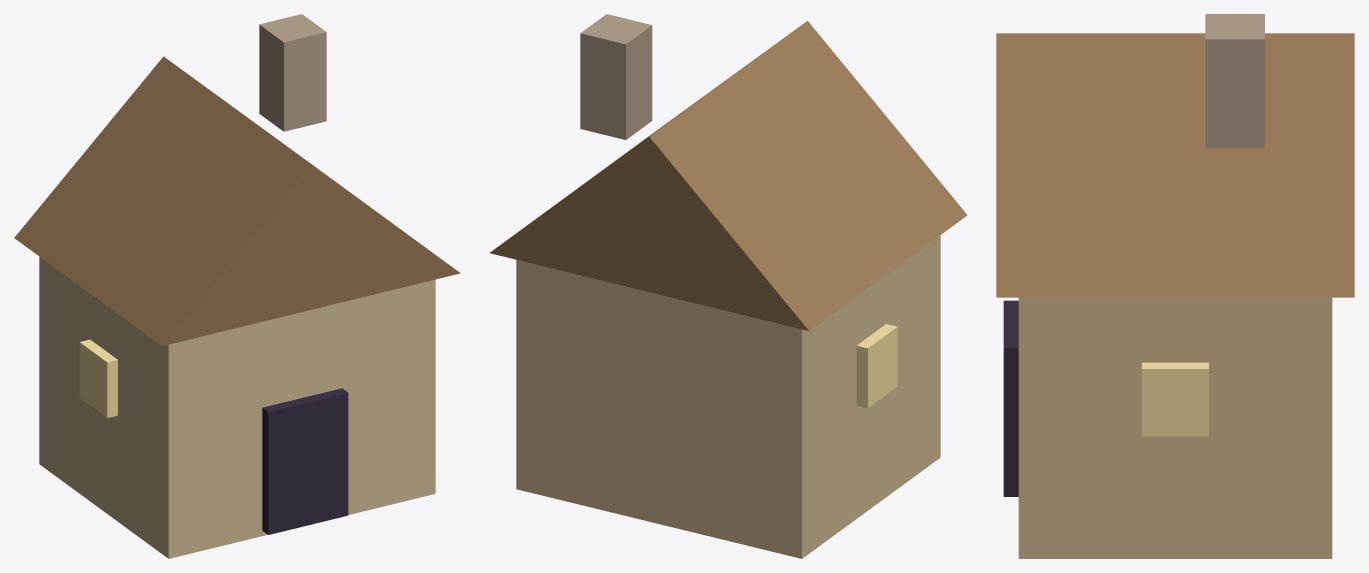
File: cottage.glb
3 views of the same model, side by side, from view 1: azimuth 30°, elevation 25°; view 2: azimuth 150°, elevation 25°; view 3: azimuth 270°, elevation 25° (orthographic). The views are drawn at different scales.
Visible parts, largest first — view 1: medieval-cottage; view 2: medieval-cottage; view 3: medieval-cottage.
Boxes of the visible parts, x1,y1,x2,y2 form: medieval-cottage: (14, 14, 460, 558); medieval-cottage: (490, 14, 967, 558); medieval-cottage: (996, 14, 1354, 558).
Size of the model in its own units: 0.56 by 0.74 by 0.48.
